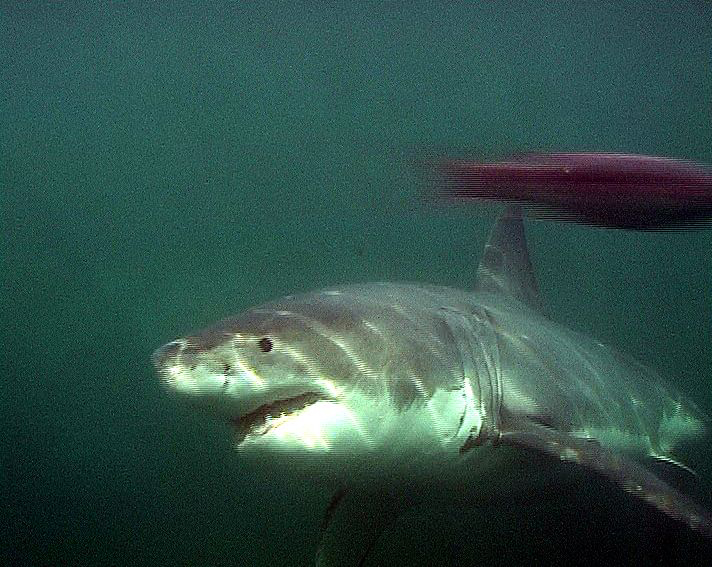Carcharodon_carcharias: (133, 198, 712, 556)
